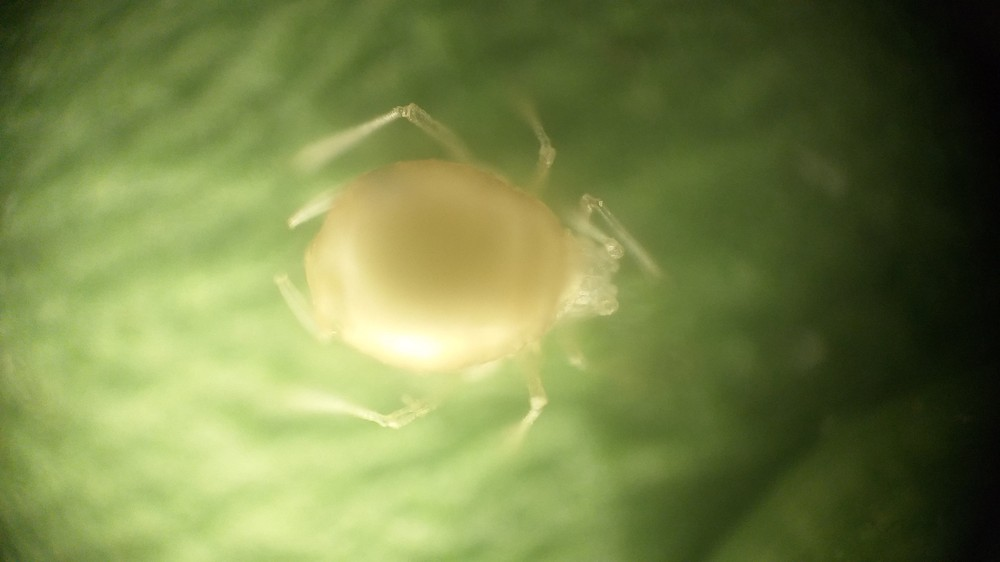Pulgon: (227, 77, 679, 475)
